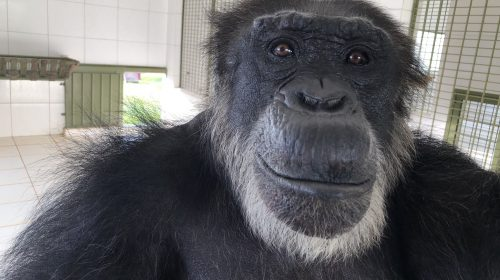Chimpanzee: (141, 3, 486, 280)
